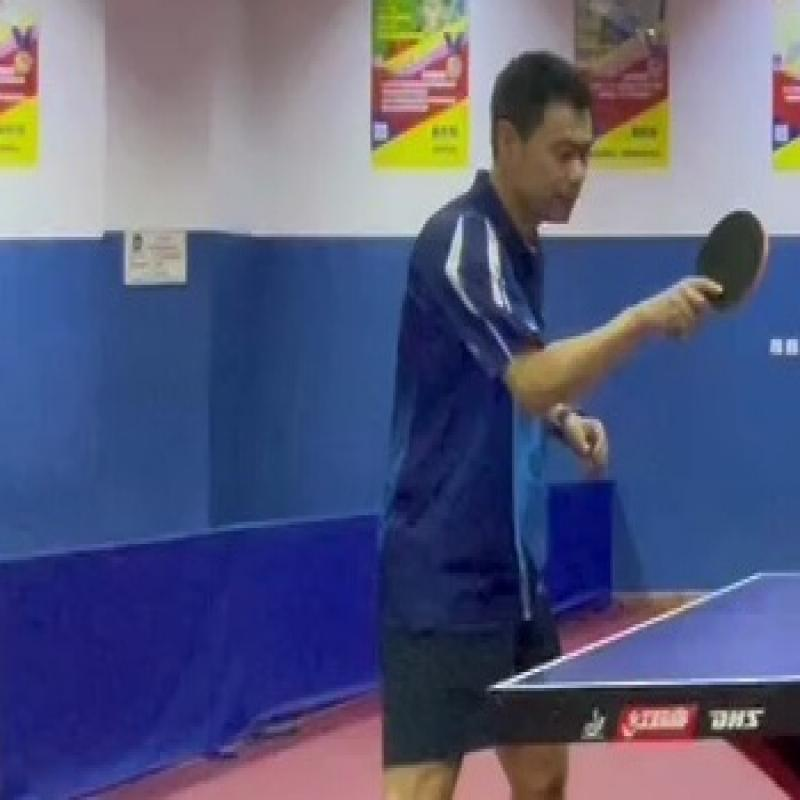bats: (685, 195, 775, 325)
